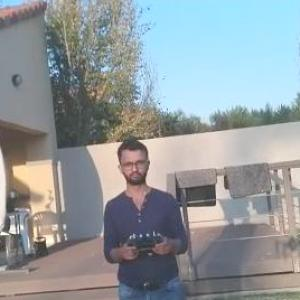follow: (98, 133, 196, 299)
